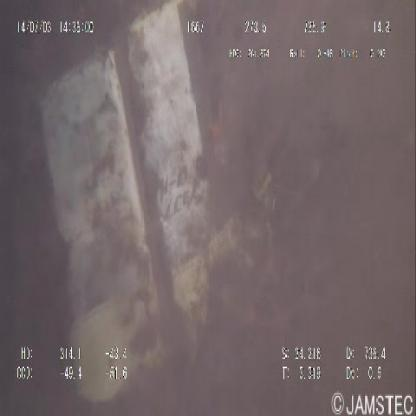Rác: (30, 6, 278, 402)
